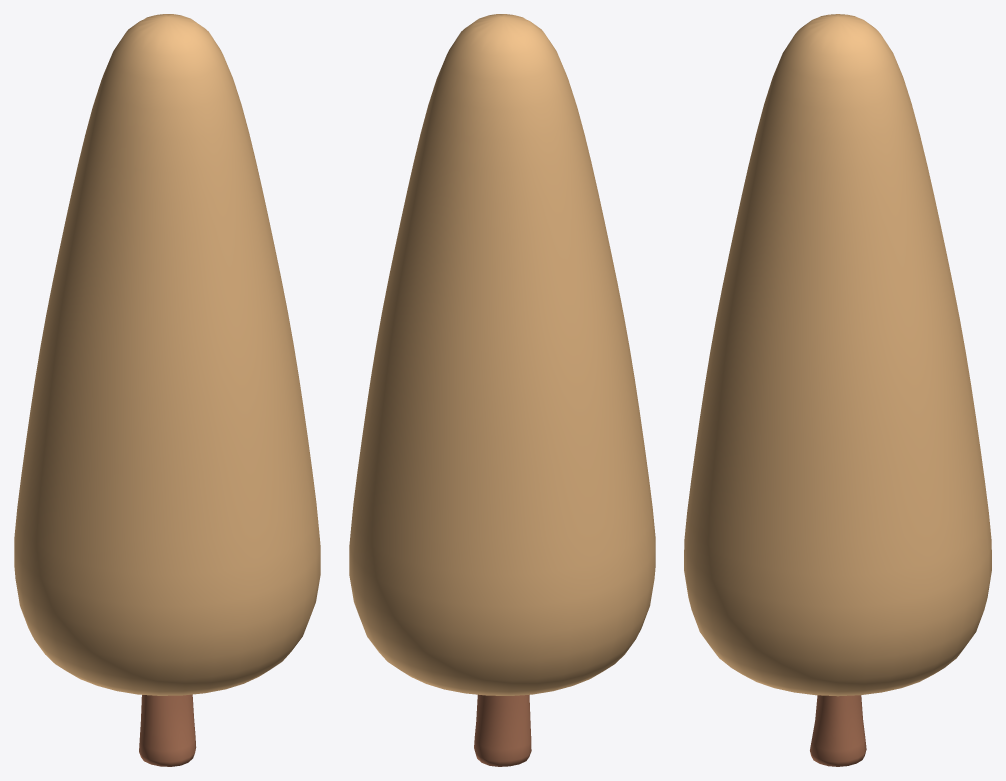
The model's file is TreeSimple_01.fbx.
The picture shows the model from 3 angles, left to right: view 1: azimuth 30°, elevation 25°; view 2: azimuth 150°, elevation 25°; view 3: azimuth 270°, elevation 25°; orthographic projection.
Visible parts, largest first — view 1: TreeSimple_01_LOD0; view 2: TreeSimple_01_LOD0; view 3: TreeSimple_01_LOD0.
Part boxes in pixels (x1,y1,x2,y2): TreeSimple_01_LOD0: (14,14,320,766); TreeSimple_01_LOD0: (349,14,655,766); TreeSimple_01_LOD0: (684,14,991,766).
Size of what is drawn, in the model's own units: 462 by 1226 by 462.
